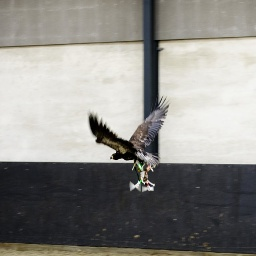Bird: (84, 100, 173, 172)
UAV: (126, 173, 157, 193)
